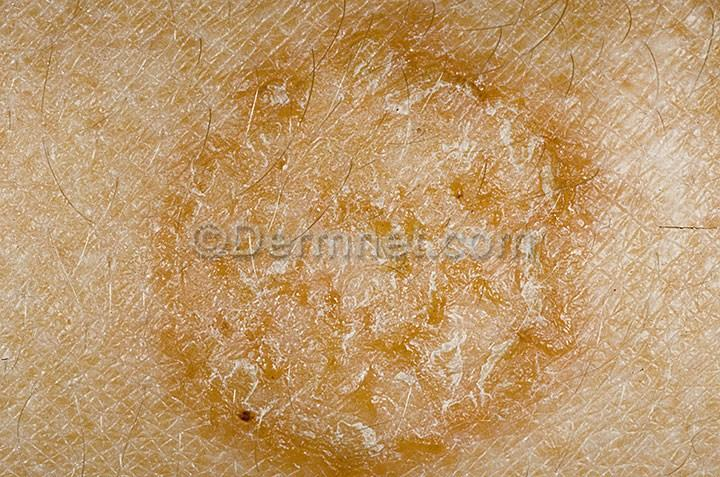Eczema: (95, 14, 622, 471)
